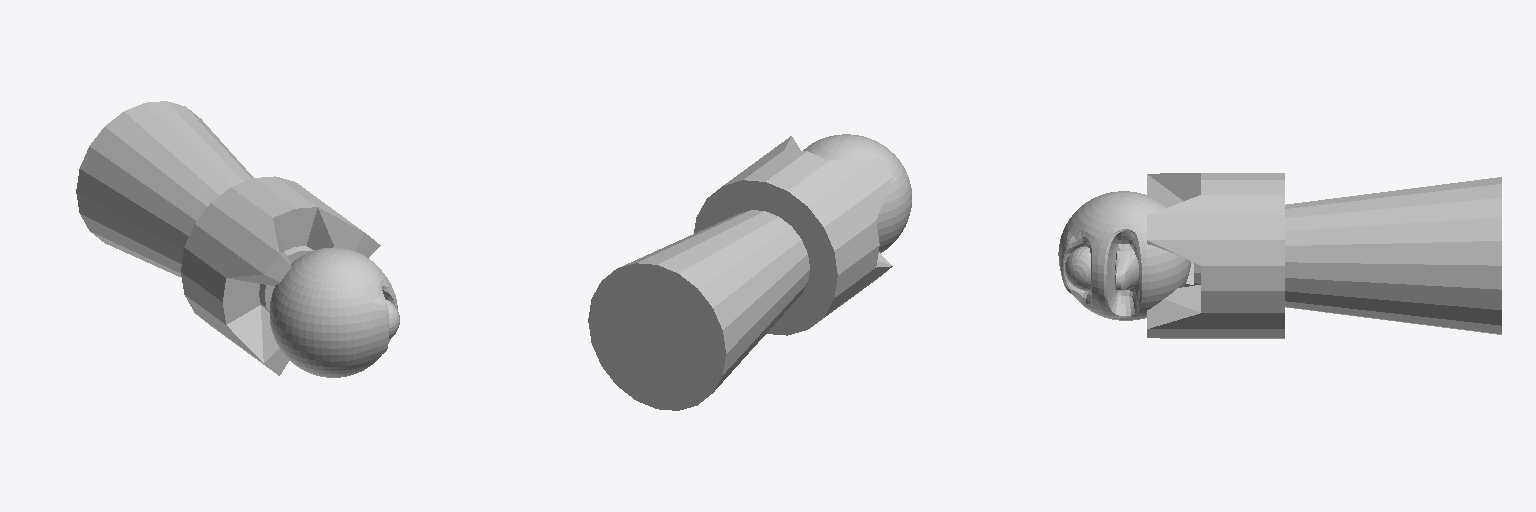
File: Tower-ARROW+BASIC.obj
3 views of the same model, side by side, from view 1: azimuth 30°, elevation 25°; view 2: azimuth 150°, elevation 25°; view 3: azimuth 270°, elevation 25° (orthographic).
Visible parts, largest first — view 1: pCylinder3; view 2: pCylinder3; view 3: pCylinder3.
Part boxes in pixels (x1,y1,x2,y2): pCylinder3: (76,101,399,377); pCylinder3: (588,134,911,410); pCylinder3: (1058,173,1501,338).
Bounding box in the file's own units: 0.9667 × 0.9667 × 2.56.